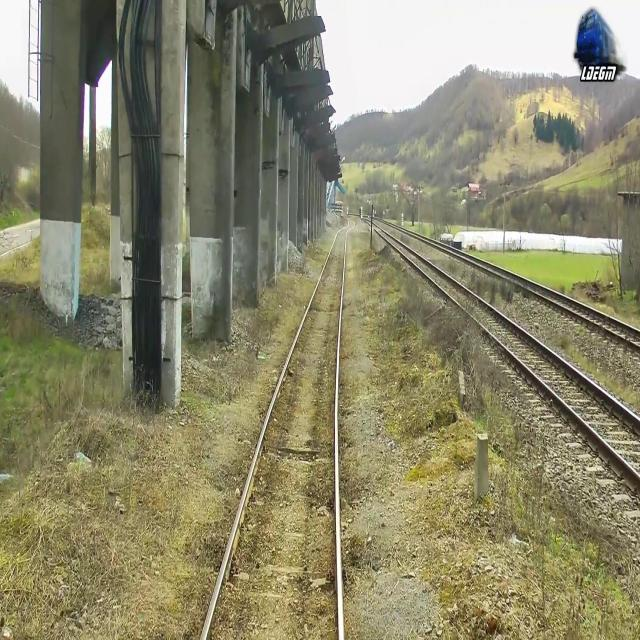rail-track: (372, 223, 640, 473), (204, 220, 354, 639), (382, 220, 640, 344)
